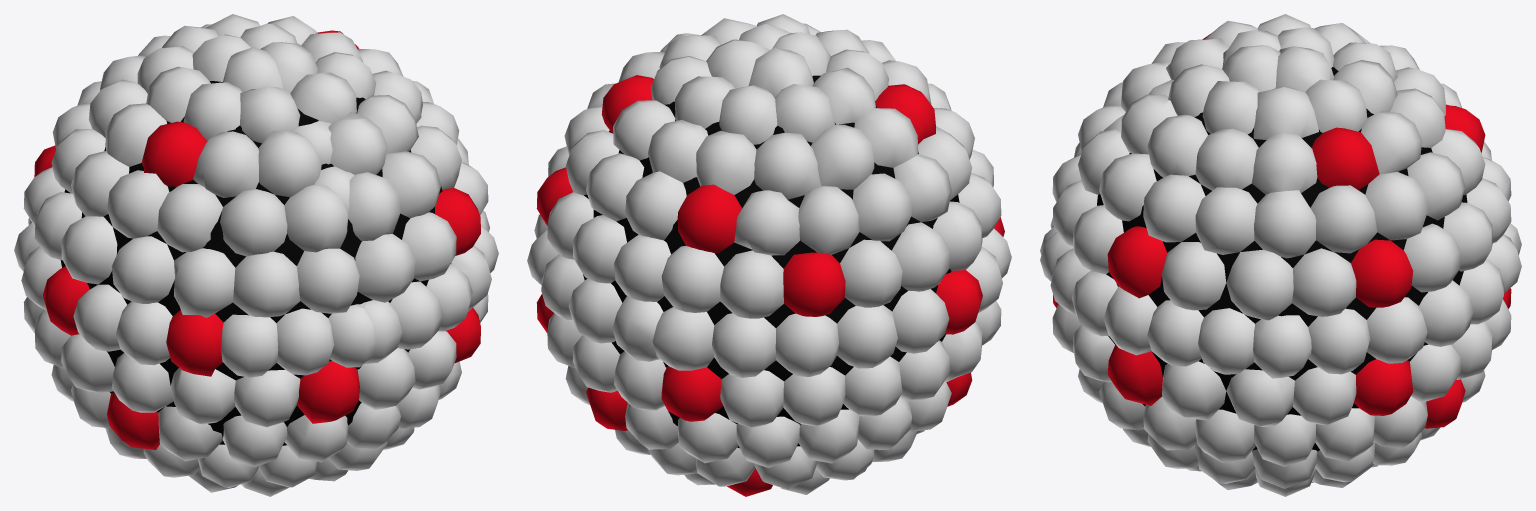
File: Atom.fbx
3 renders of one model, left to right at view 1: azimuth 30°, elevation 25°; view 2: azimuth 150°, elevation 25°; view 3: azimuth 270°, elevation 25°, orthographic.
Parts seen in each view (by area): view 1: Atom; view 2: Atom; view 3: Atom.
Boxes of the visible parts, box(x1,y1,x2,y2) form: Atom: box(14, 14, 498, 496); Atom: box(527, 14, 1011, 496); Atom: box(1040, 14, 1521, 496).
Size of the model in its own units: 1.65 by 1.63 by 1.64.
